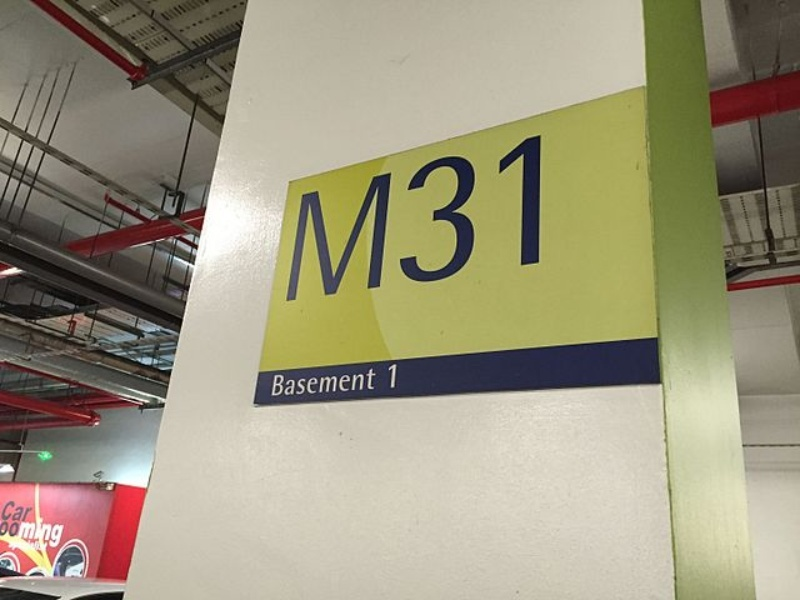text: (305, 129, 320, 303), (321, 129, 336, 303), (337, 129, 352, 303), (353, 129, 368, 303), (369, 129, 384, 303), (385, 129, 400, 303), (401, 129, 416, 303), (417, 129, 432, 303), (433, 129, 448, 303), (449, 129, 464, 303), (465, 129, 480, 303), (481, 129, 496, 303), (497, 129, 512, 303), (513, 129, 528, 303), (529, 129, 542, 303), (1, 519, 16, 551), (17, 519, 32, 551), (33, 519, 48, 551), (49, 519, 64, 551), (273, 367, 288, 397), (289, 367, 304, 397), (305, 367, 320, 397), (321, 367, 336, 397), (337, 367, 352, 397), (353, 367, 368, 397), (17, 498, 32, 522), (302, 129, 304, 303), (3, 498, 16, 522), (388, 363, 400, 388), (369, 367, 377, 397), (17, 539, 32, 553), (33, 539, 48, 553), (9, 539, 16, 553), (33, 498, 37, 522), (65, 519, 67, 551), (49, 539, 51, 553)
